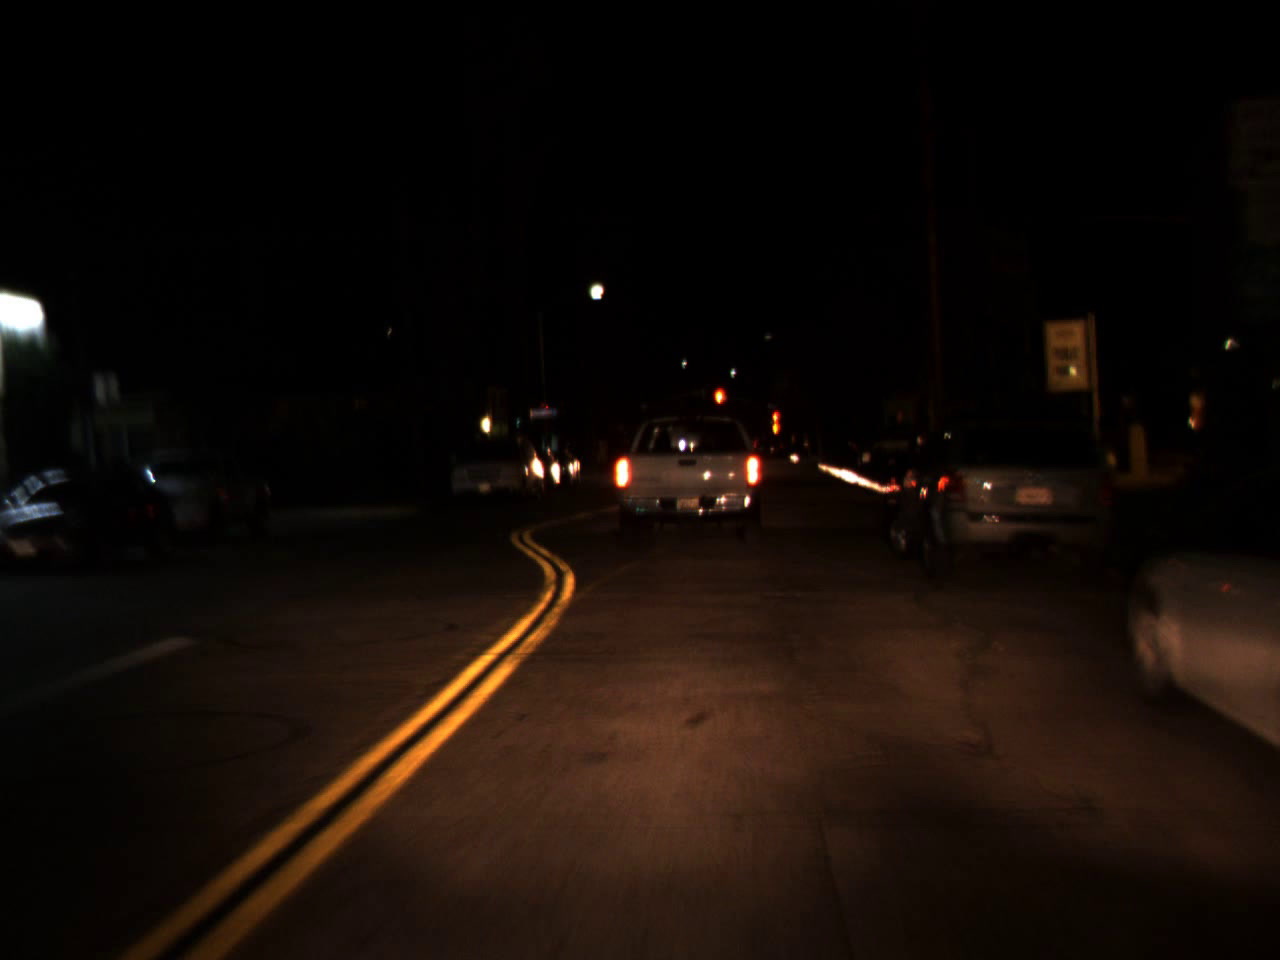stop: (712, 386, 725, 421), (771, 410, 778, 434)
